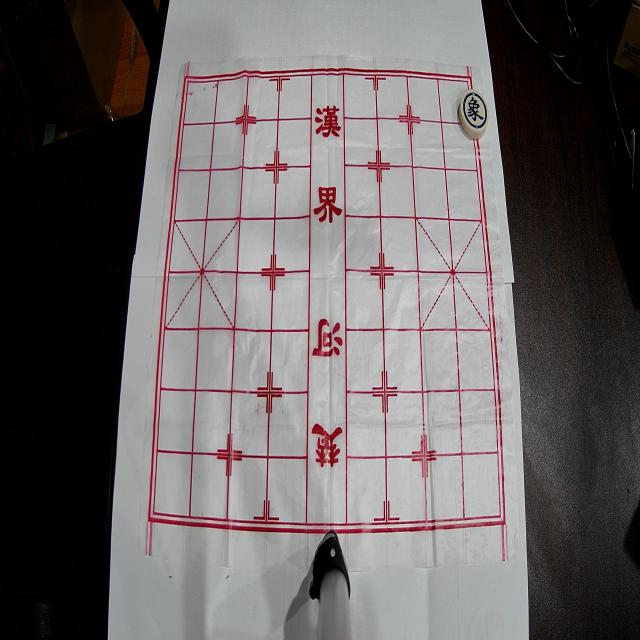black-elephant: (459, 89, 489, 139)
